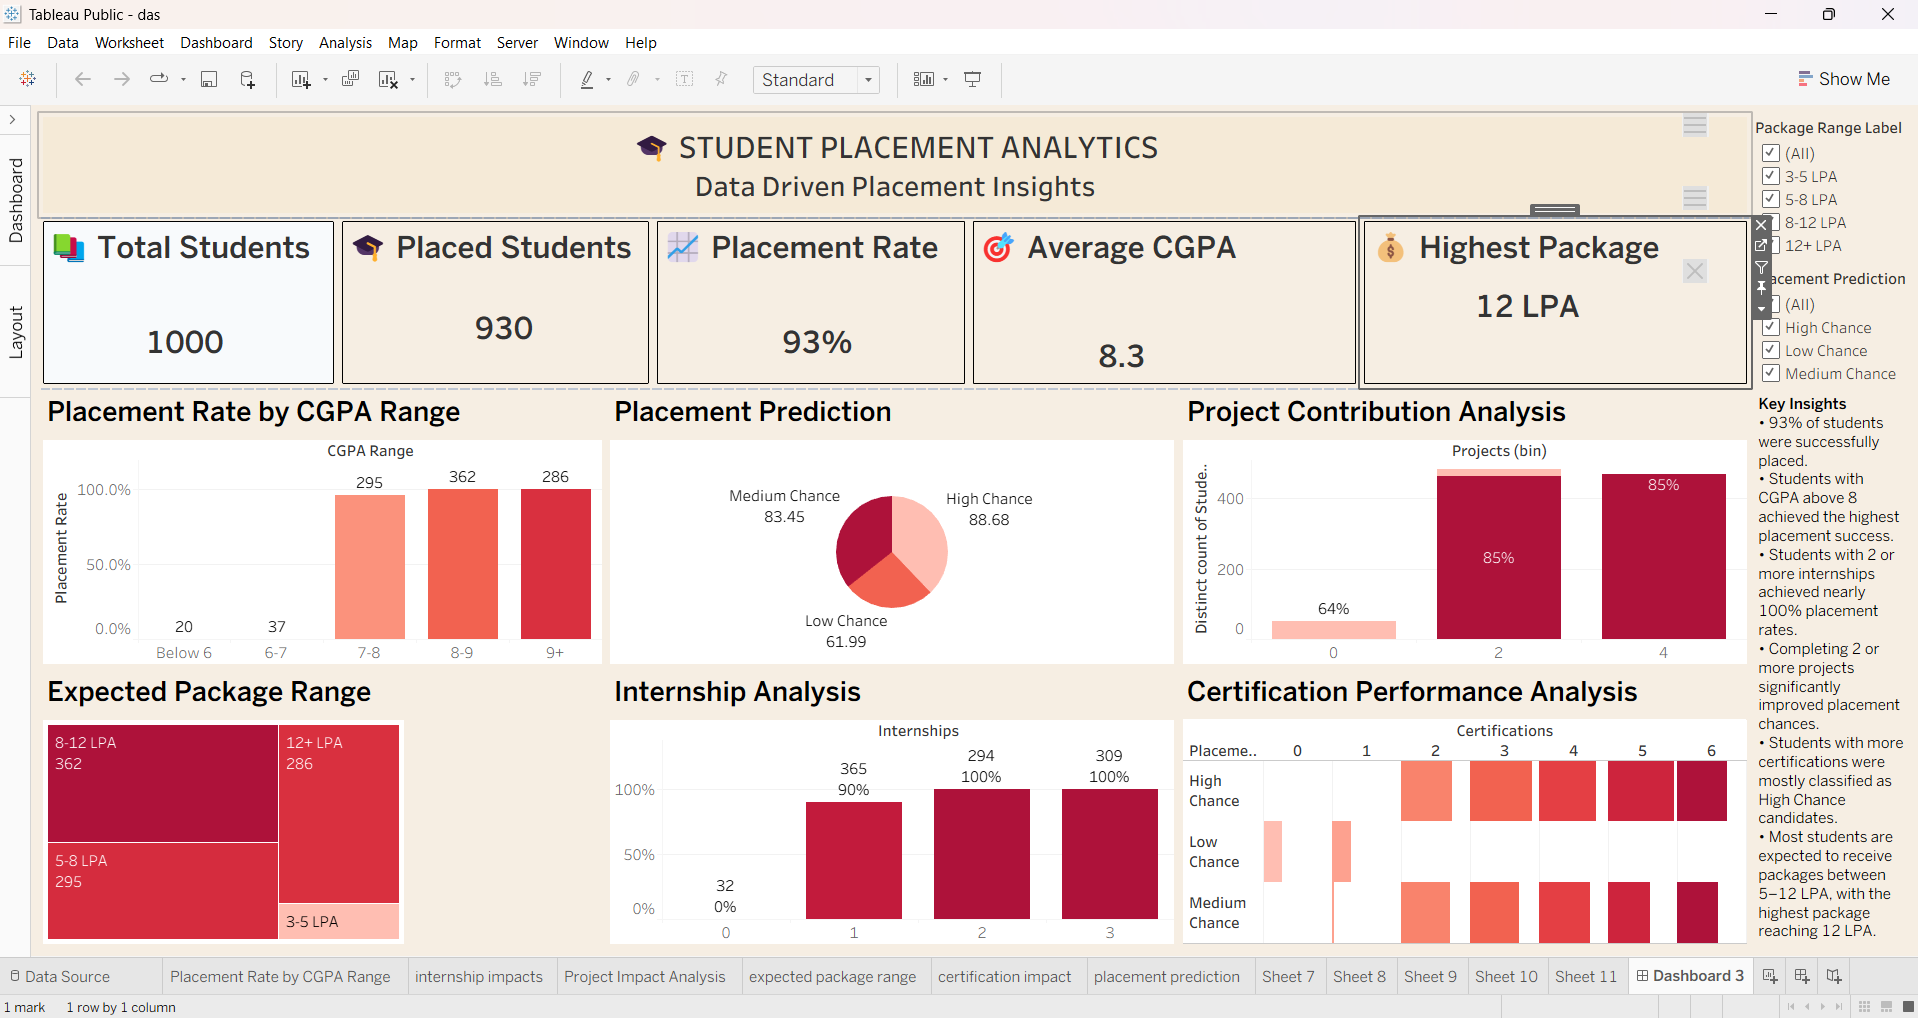

Layout of this report page (visuals, bound fields, positions):
{"tool":"tableau","page":{"name":"Dashboard 3","canvas":[1000,1000],"units":"permille","ordinal":0},"visuals":[{"type":"title","box":[4.8,9.4,893.8,122.2]},{"type":"dashboard-object","box":[874.5,9.4,14.5,28.2]},{"type":"filter","title":"expected package range","param":"[federated.0who71j1g86yio13sddhn05ctacm].[none:Calculation_1163845435494404:nk]","box":[898.6,9.4,96.6,177.4]},{"type":"dashboard-object","box":[874.5,95.2,14.5,28.2]},{"type":"worksheet","title":"Sheet 7","mark":"Automatic","box":[4.8,131.6,178.8,200.9]},{"type":"worksheet","title":"Sheet 8","mark":"Automatic","box":[183.6,131.6,178.8,200.9]},{"type":"worksheet","title":"Sheet 9","mark":"Automatic","box":[362.3,131.6,178.8,200.9]},{"type":"worksheet","title":"Sheet 10","mark":"Automatic","box":[541.1,131.6,178.8,200.9]},{"type":"worksheet","title":"Sheet 11","mark":"Automatic","box":[719.8,131.6,178.8,200.9]},{"type":"dashboard-object","box":[874.5,181,14.5,28.2]},{"type":"dashboard-object","box":[874.5,181,14.5,28.2]},{"type":"filter","title":"placement prediction","param":"[federated.0who71j1g86yio13sddhn05ctacm].[none:Calculation_0768023188803584:nk]","box":[898.6,186.8,96.6,150.4]},{"type":"worksheet","title":"Placement Rate by CGPA Range","mark":"Automatic","rows":["Calculation_1286715679989760"],"cols":["Calculation_0768023192608769"],"box":[4.8,332.6,296.2,329]},{"type":"worksheet","title":"placement prediction","mark":"Pie","box":[301,332.6,298.9,328.9]},{"type":"worksheet","title":"Project Impact Analysis","mark":"Automatic","rows":["Student_ID"],"cols":["Projects (bin)"],"box":[599.8,332.6,298.8,328.9]},{"type":"text","box":[898.6,337.2,96.6,653.4]},{"type":"worksheet","title":"internship impacts","mark":"Bar","rows":["Calculation_1163845428858883"],"cols":["Internships"],"box":[301,661.4,298.8,329.2]},{"type":"worksheet","title":"certification impact","mark":"Bar","rows":["Calculation_0768023188803584"],"cols":["Certifications"],"box":[599.8,661.4,298.8,329.2]},{"type":"worksheet","title":"expected package range","mark":"Automatic","box":[4.8,661.6,296.2,329]}]}

Visuals, with their boxes on the dashboard's canvas, which has no fixed pixel size, in thousandths of its width and height (x1, y1, x2, y2). These are canvas units, not pixel positions in the 1918x1018 screenshot, which may show the page scaled, cropped or inside an application window:
title: 5:9:899:132
dashboard-object: 874:9:889:38
"expected package range" filter: 899:9:995:187
dashboard-object: 874:95:889:123
"Sheet 7" worksheet: 5:132:184:332
"Sheet 8" worksheet: 184:132:362:332
"Sheet 9" worksheet: 362:132:541:332
"Sheet 10" worksheet: 541:132:720:332
"Sheet 11" worksheet: 720:132:899:332
dashboard-object: 874:181:889:209
dashboard-object: 874:181:889:209
"placement prediction" filter: 899:187:995:337
"Placement Rate by CGPA Range" worksheet: 5:333:301:662
"placement prediction" worksheet (Pie marks): 301:333:600:662
"Project Impact Analysis" worksheet: 600:333:899:662
text: 899:337:995:991
"internship impacts" worksheet (Bar marks): 301:661:600:991
"certification impact" worksheet (Bar marks): 600:661:899:991
"expected package range" worksheet: 5:662:301:991
